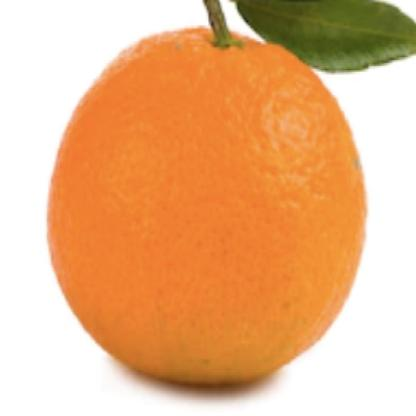fresh: (50, 30, 366, 387)
